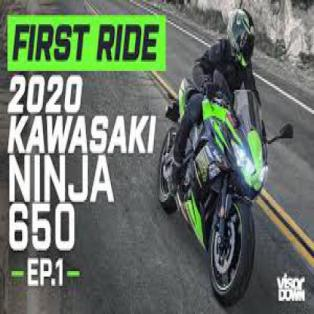Motocicleta: (164, 89, 266, 307)
